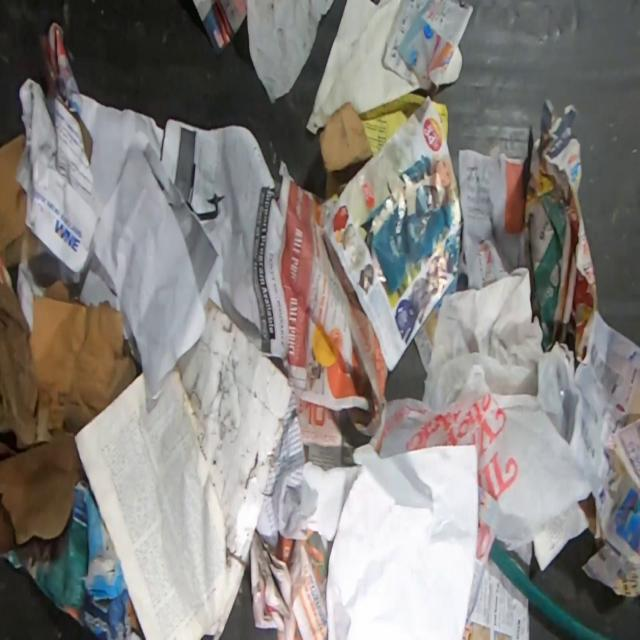cardboard: (174, 295, 292, 640), (0, 483, 130, 640), (30, 279, 135, 447), (0, 135, 45, 447), (0, 440, 87, 551), (318, 98, 372, 198)
soft_plastic: (370, 362, 594, 551), (192, 0, 247, 55)
